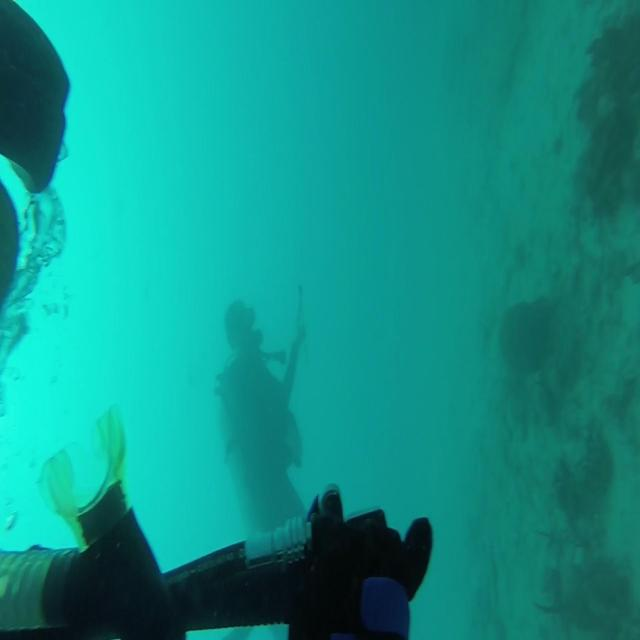human: (213, 284, 308, 536)
